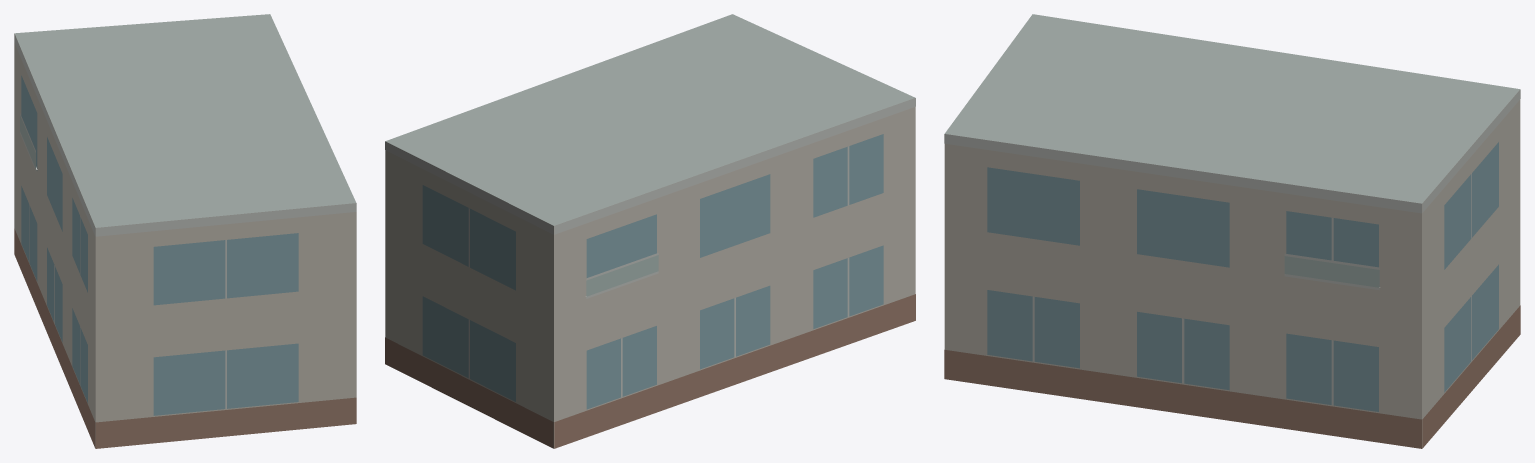
Rendered from survey-upis-32625646.glb.
The picture shows the model from 3 angles, left to right: view 1: azimuth 30°, elevation 25°; view 2: azimuth 150°, elevation 25°; view 3: azimuth 270°, elevation 25°; orthographic projection. The views are drawn at different scales.
Parts seen in each view (by area): view 1: survey-upis-32625646.tmp; view 2: survey-upis-32625646.tmp; view 3: survey-upis-32625646.tmp.
Boxes of the visible parts, x1,y1,x2,y2 form: survey-upis-32625646.tmp: (14, 14, 356, 448); survey-upis-32625646.tmp: (385, 14, 915, 448); survey-upis-32625646.tmp: (944, 14, 1520, 448).
Size of the model in its own units: 10.13 by 6.1 by 13.
